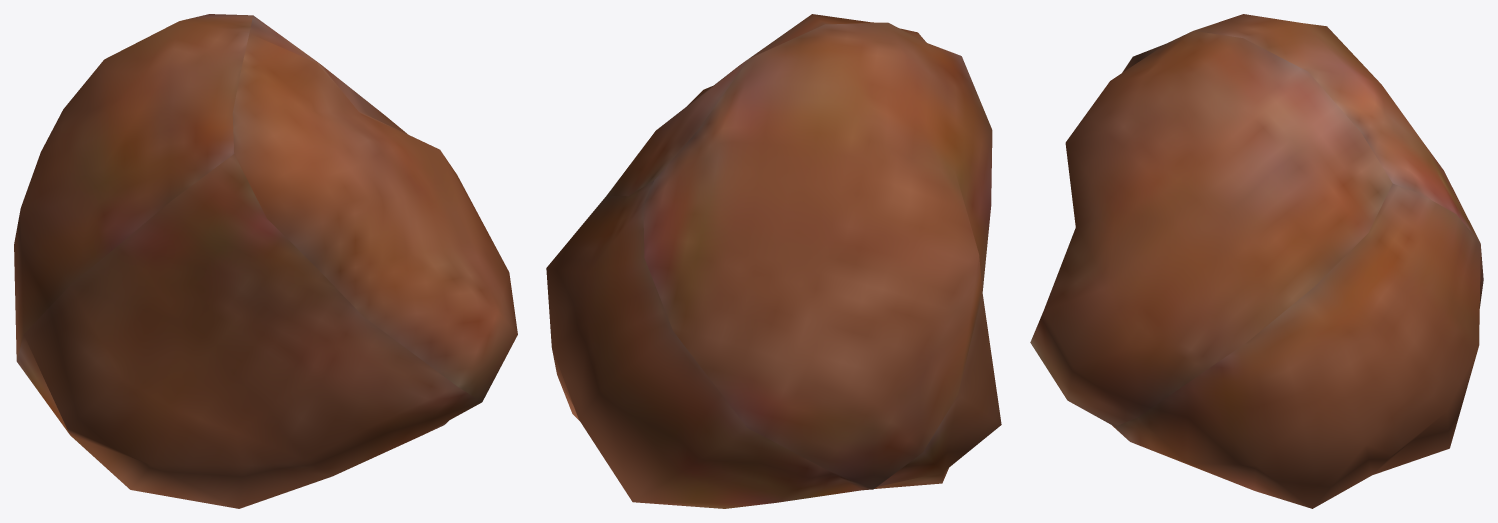
File: Canyon_Rock_Boulders_6.glb
3 renders of one model, left to right at view 1: azimuth 30°, elevation 25°; view 2: azimuth 150°, elevation 25°; view 3: azimuth 270°, elevation 25°, orthographic. The views are drawn at different scales.
Visible parts, largest first — view 1: Canyon_Rock_Boulders_6_0; view 2: Canyon_Rock_Boulders_6_0; view 3: Canyon_Rock_Boulders_6_0.
Part boxes in pixels (box(x1,y1,x2,y2)): Canyon_Rock_Boulders_6_0: box(14, 14, 517, 508); Canyon_Rock_Boulders_6_0: box(546, 14, 1001, 508); Canyon_Rock_Boulders_6_0: box(1030, 14, 1483, 508).
Bounding box in the file's own units: 1.87 × 1.98 × 1.95.
Materials: 1 (1 with a texture image).
